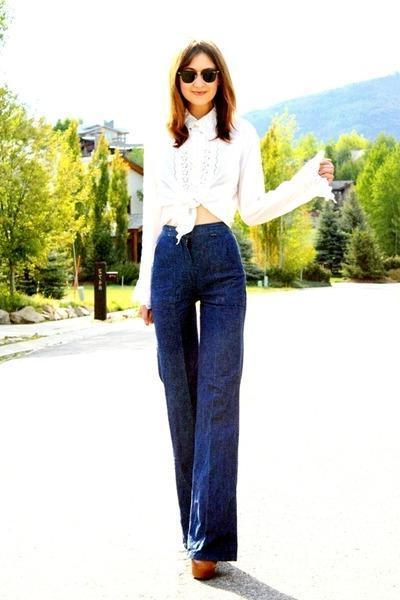long sleeve shirt: (130, 105, 336, 320)
trousers: (150, 218, 254, 563)
